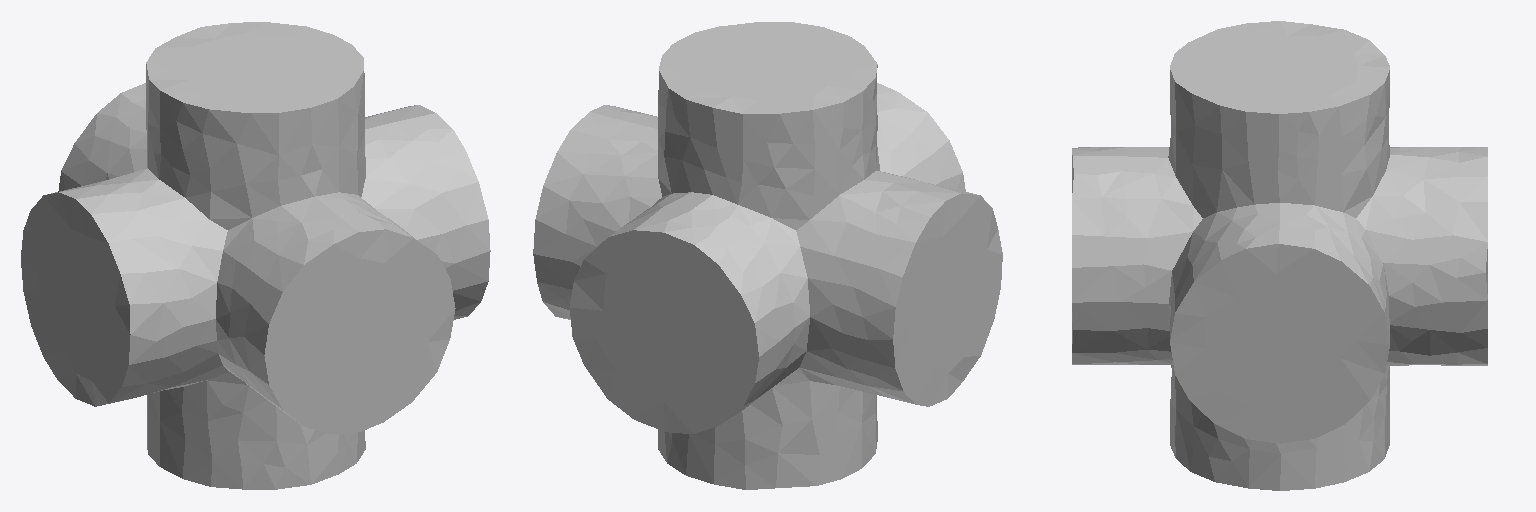
The model's file is joint.obj__sf.obj.
3 views of the same model, side by side, from view 1: azimuth 30°, elevation 25°; view 2: azimuth 150°, elevation 25°; view 3: azimuth 270°, elevation 25° (orthographic).
Size of the model in its own units: 1.6 by 1.6 by 1.6.